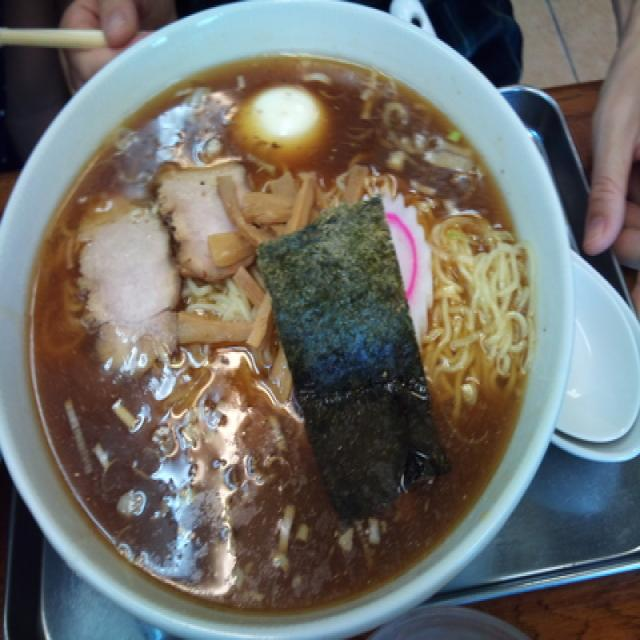面条主食: (5, 0, 568, 640)
